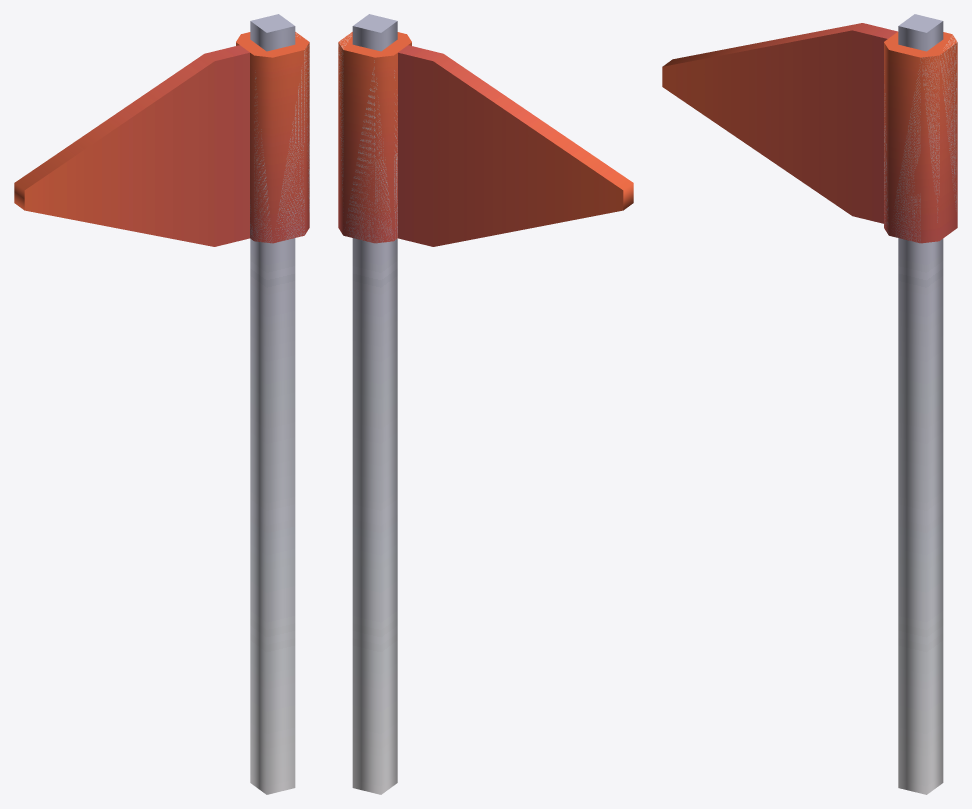
Rendered from flag-red.glb.
3 views of the same model, side by side, from view 1: azimuth 30°, elevation 25°; view 2: azimuth 150°, elevation 25°; view 3: azimuth 330°, elevation 25° (orthographic).
Visible parts, largest first — view 1: flag-red; view 2: flag-red; view 3: flag-red.
Part boxes in pixels (box(x1,y1,x2,y2)): flag-red: box(14, 14, 309, 794); flag-red: box(338, 14, 633, 794); flag-red: box(662, 14, 957, 794).
Size of the model in its own units: 0.3955 by 1.02 by 0.0781.
Materials: 1 (1 with a texture image).
